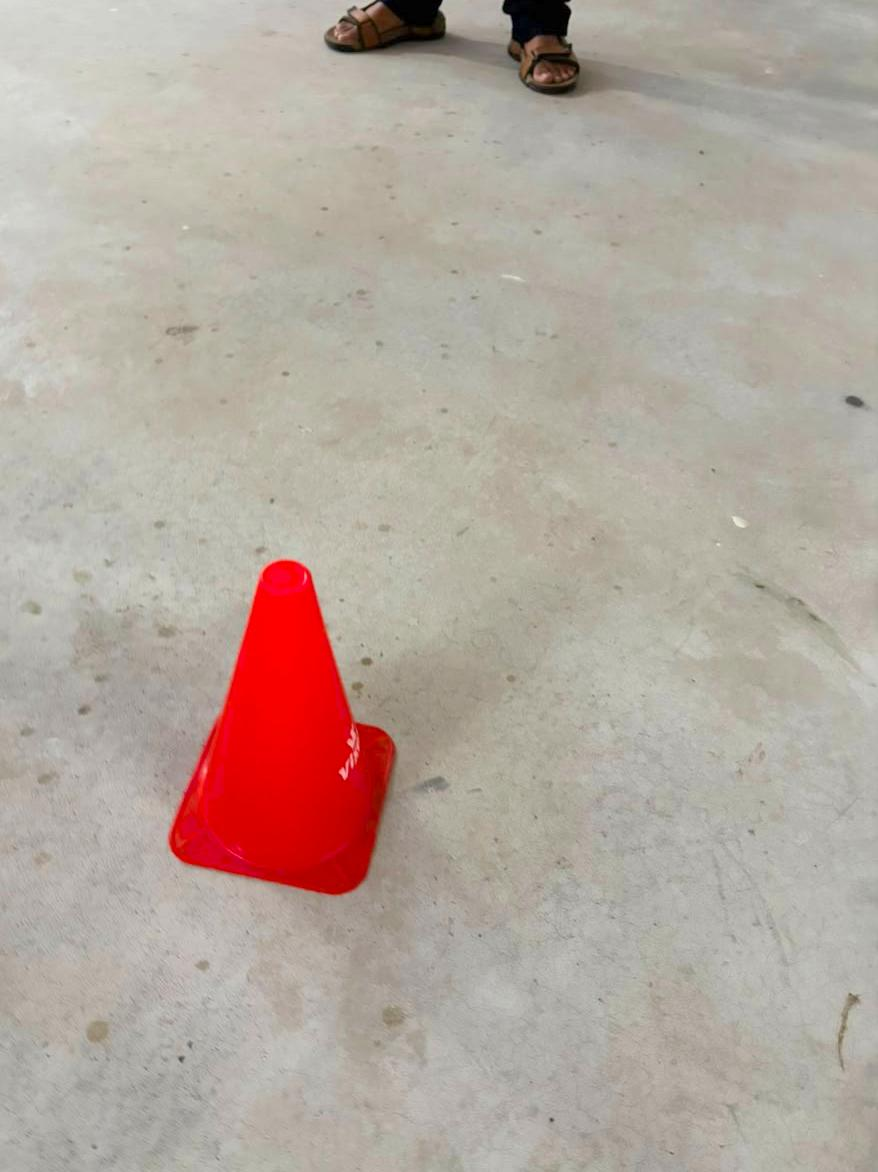0 cone: (169, 561, 395, 893)
